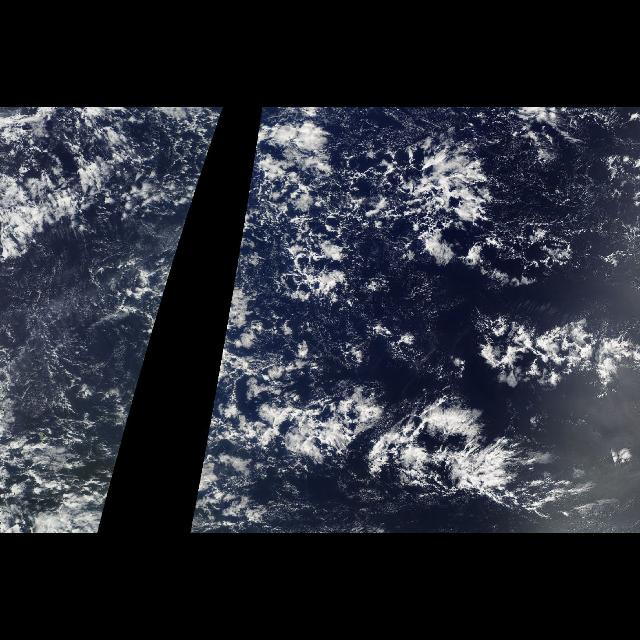Gravel: (244, 191, 432, 383)
